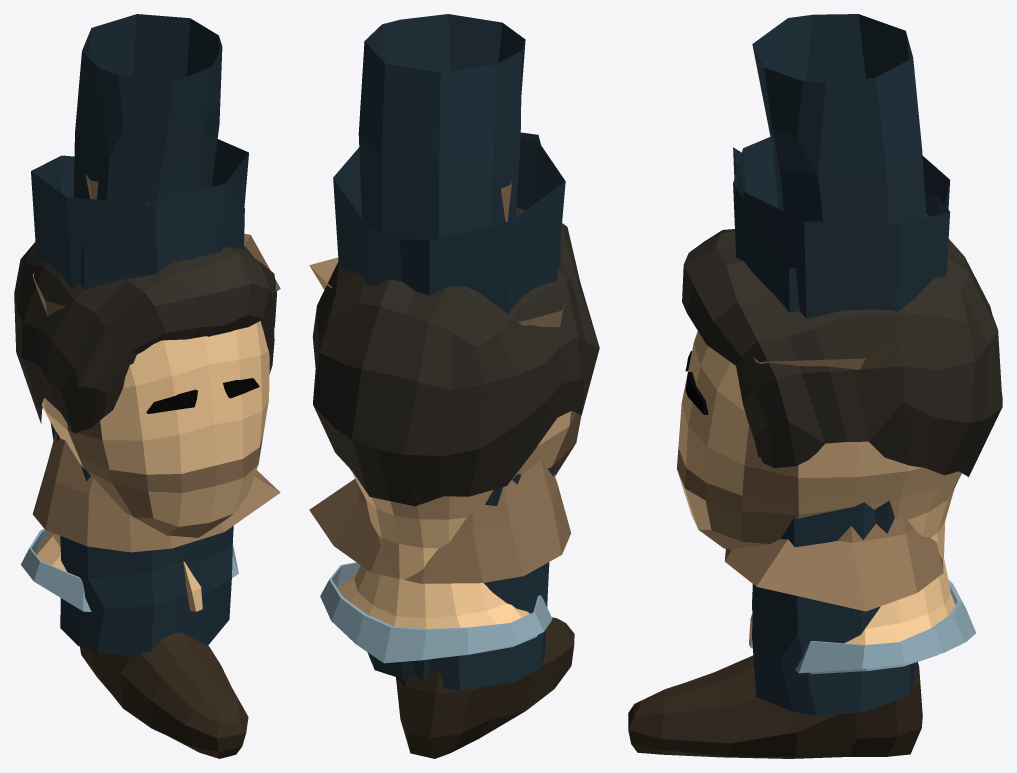
Rendered from ManCasualEmPartes.fbx.
The picture shows the model from 3 angles, left to right: view 1: azimuth 30°, elevation 25°; view 2: azimuth 150°, elevation 25°; view 3: azimuth 270°, elevation 25°; orthographic projection. The views are drawn at different scales.
Visible parts, largest first — view 1: ManHead, MaPernaDir, MaCoxaEsq, MaCoxaDir, MaPernaEsq, ManBracoEsq, ManAntebracoDir, ManBracoDir; view 2: ManHead, MaPernaDir, MaPernaEsq, ManBracoEsq, MaCoxaDir, MaCoxaEsq, ManBracoDir; view 3: ManHead, MaPernaEsq, MaCoxaDir, MaCoxaEsq, ManBracoEsq, MaPernaDir, ManBracoDir.
Part boxes in pixels (left/top/right/bottom): ManHead: left=14, top=242, right=276, bottom=611; MaPernaDir: left=73, top=14, right=245, bottom=758; MaCoxaEsq: left=56, top=139, right=248, bottom=657; MaCoxaDir: left=31, top=155, right=244, bottom=645; MaPernaEsq: left=82, top=14, right=248, bottom=758; ManBracoEsq: left=32, top=432, right=280, bottom=552; ManAntebracoDir: left=85, top=174, right=202, bottom=611; ManBracoDir: left=32, top=234, right=280, bottom=316; ManHead: left=312, top=207, right=599, bottom=663; MaPernaDir: left=364, top=14, right=574, bottom=758; MaPernaEsq: left=358, top=23, right=525, bottom=758; ManBracoEsq: left=309, top=460, right=570, bottom=583; MaCoxaDir: left=356, top=137, right=565, bottom=682; MaCoxaEsq: left=333, top=132, right=560, bottom=690; ManBracoDir: left=309, top=257, right=571, bottom=327; ManHead: left=677, top=214, right=1002, bottom=674; MaPernaEsq: left=628, top=14, right=926, bottom=758; MaCoxaDir: left=733, top=137, right=949, bottom=715; MaCoxaEsq: left=733, top=147, right=950, bottom=680; ManBracoEsq: left=724, top=515, right=943, bottom=611; MaPernaDir: left=628, top=67, right=922, bottom=729; ManBracoDir: left=753, top=329, right=913, bottom=369.
Size of the model in its own units: 19.32 by 51.95 by 24.84.
1 material, 1 textured.
